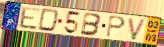5: (63, 9, 81, 35)
B: (79, 12, 103, 37)
D: (36, 8, 61, 33)
E: (19, 5, 42, 31)
P: (105, 14, 127, 39)
V: (127, 17, 148, 41)
